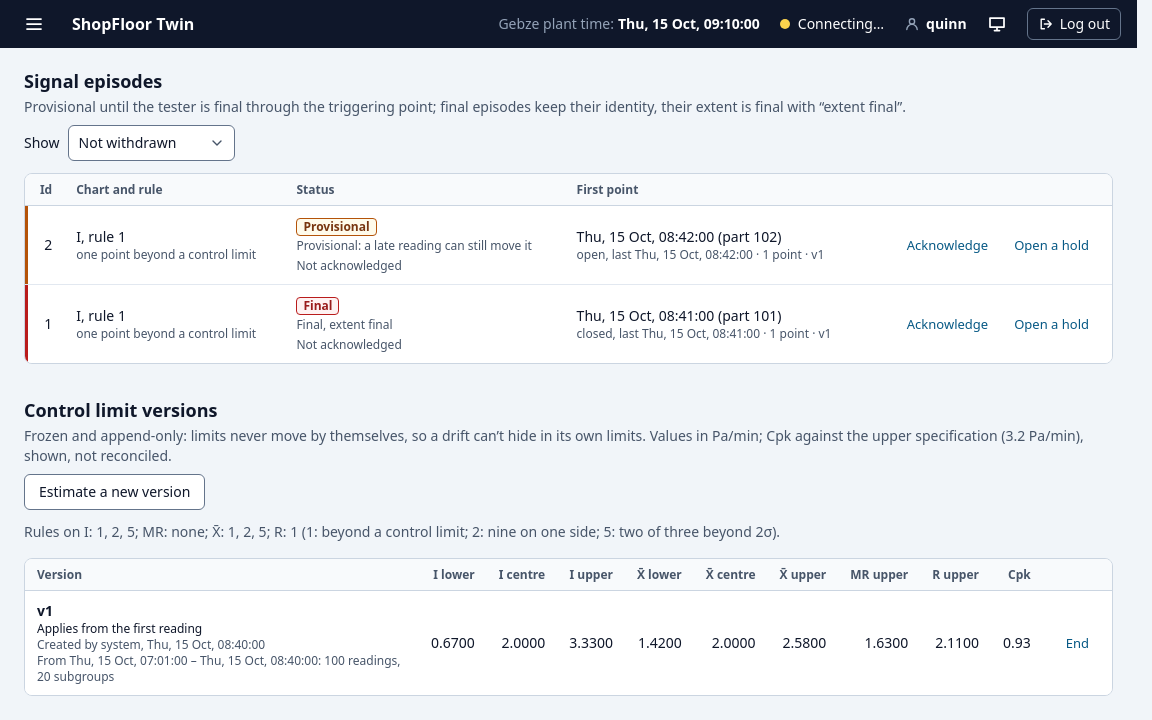
Test: SPC chart page › ends a limit version with a comment
(page scrolled)
Click the button with test id "limits-end-1" at (1077, 643), box 1055,629 -> 1100,657
(page scrolled)
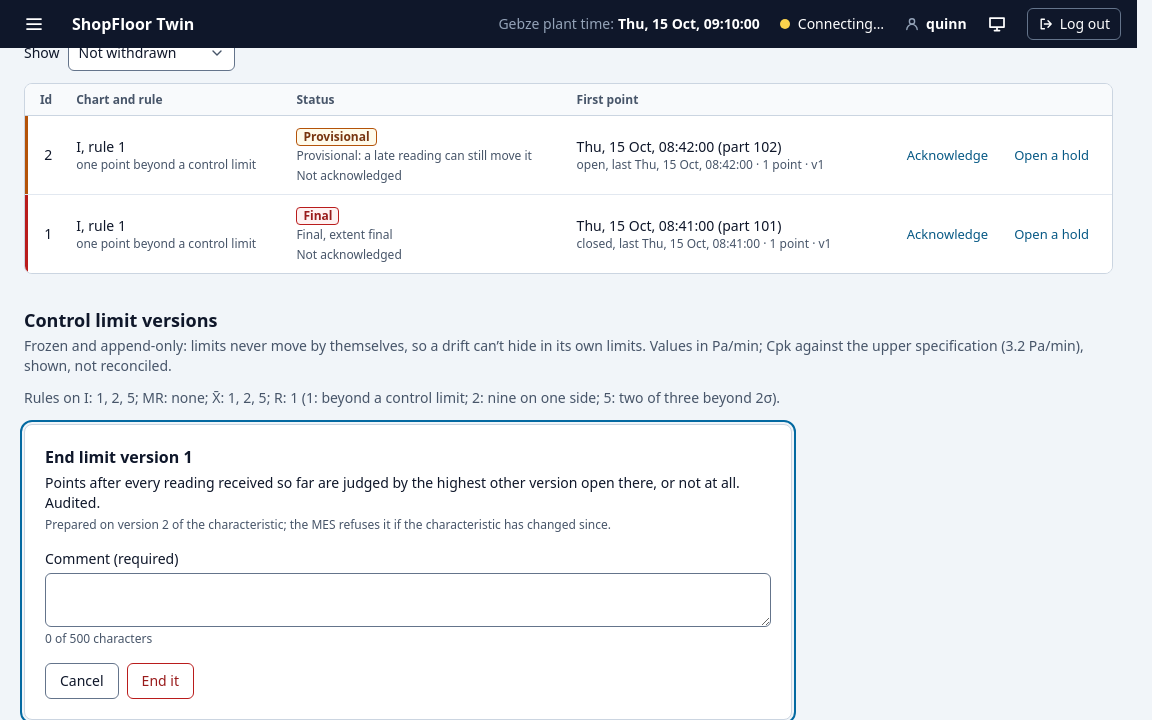
Now the form with test id "limits-end-form" is shown, box 24,424 -> 792,719
Type "tester replaced" into the text box with test id "limits-comment" at (408, 600), box 45,573 -> 771,627
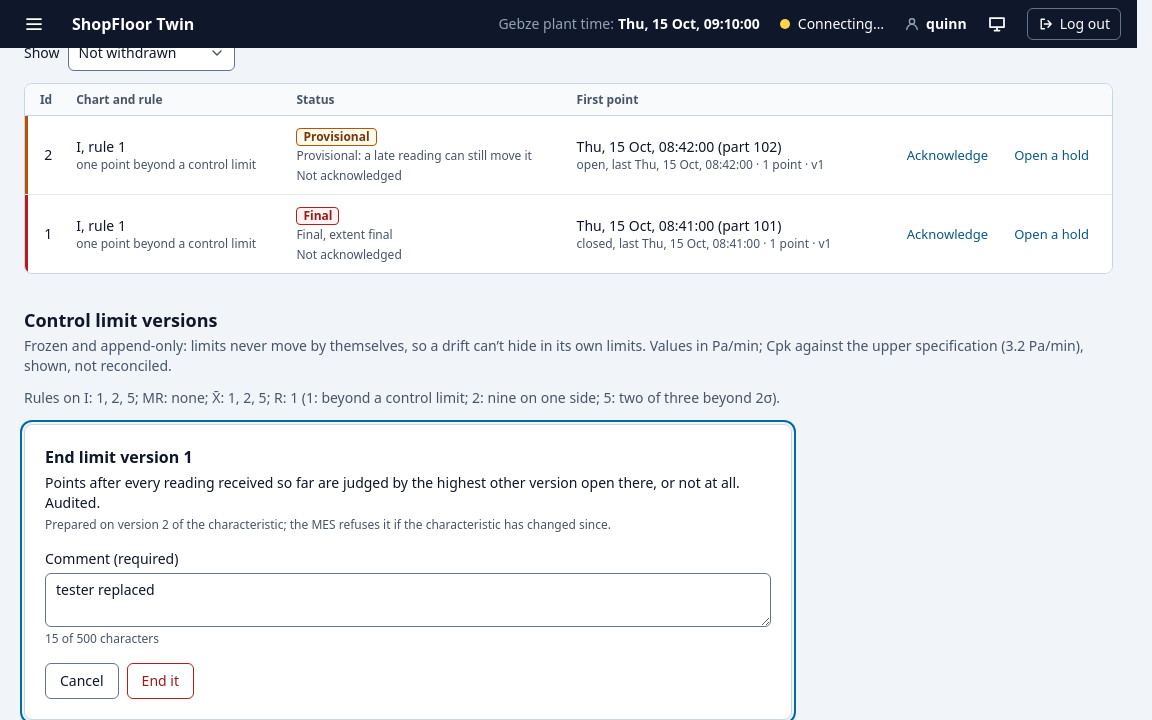
Click the button with test id "limits-submit" at (160, 681), box 127,663 -> 194,699
(page scrolled)
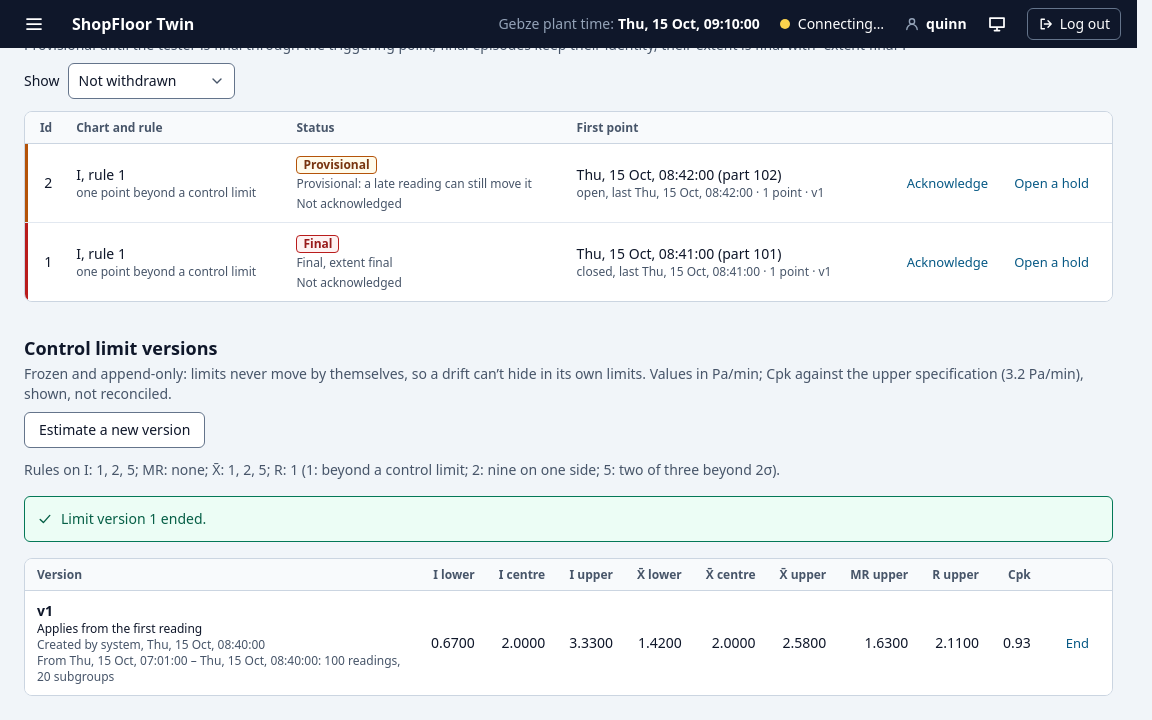
Now the message with test id "limits-done" shows "ended", box 61,509 -> 206,528
